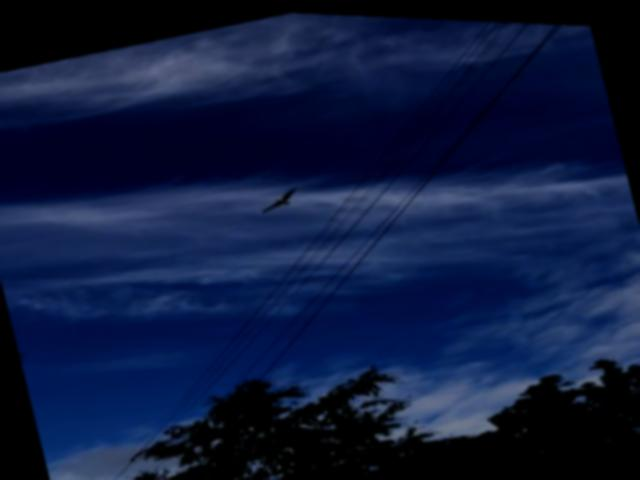bird: (248, 177, 311, 217)
